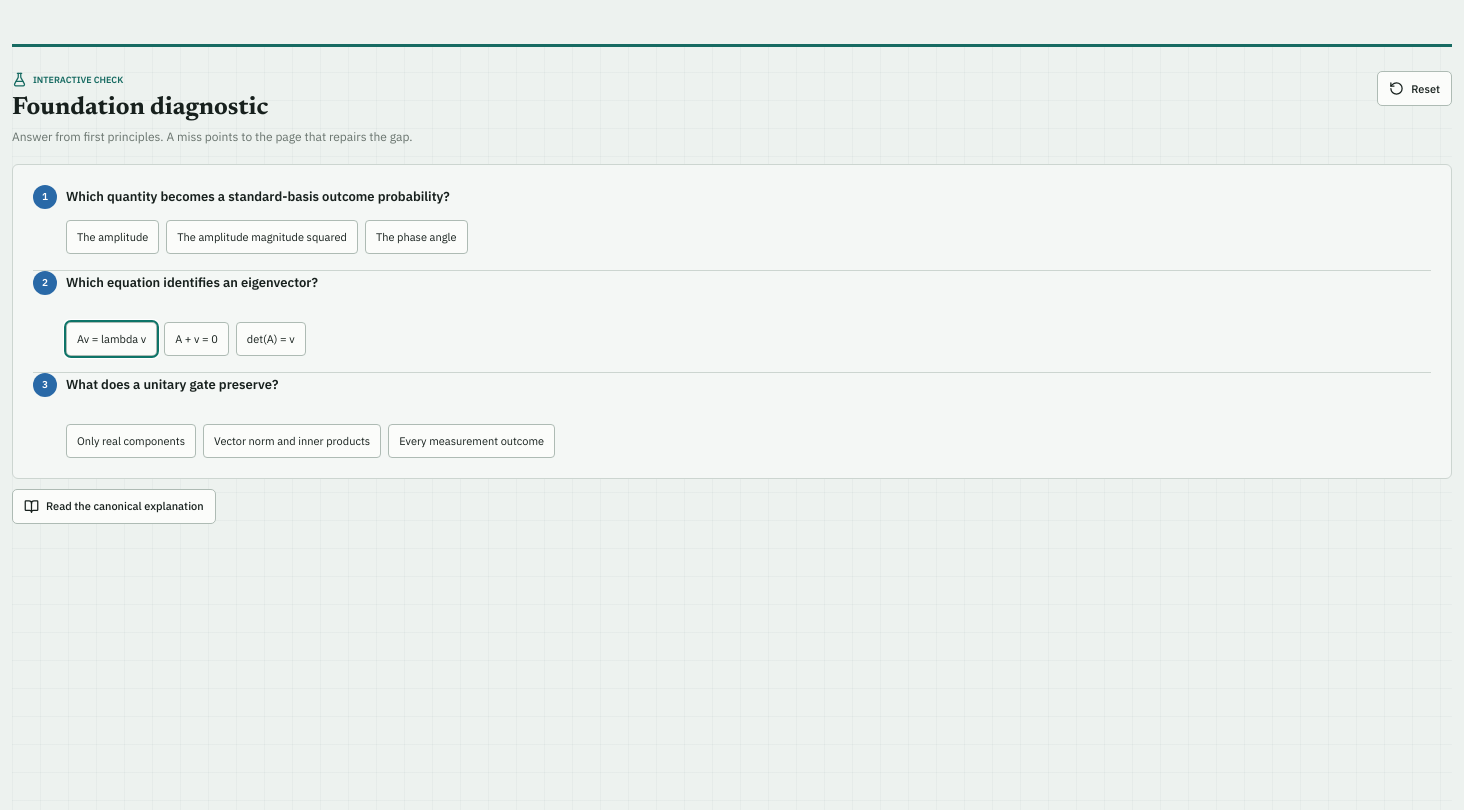
it: interactive foundation exercises › supports keyboard answers and reset
The width and height of the screenshot is (1464, 810).
Press Enter
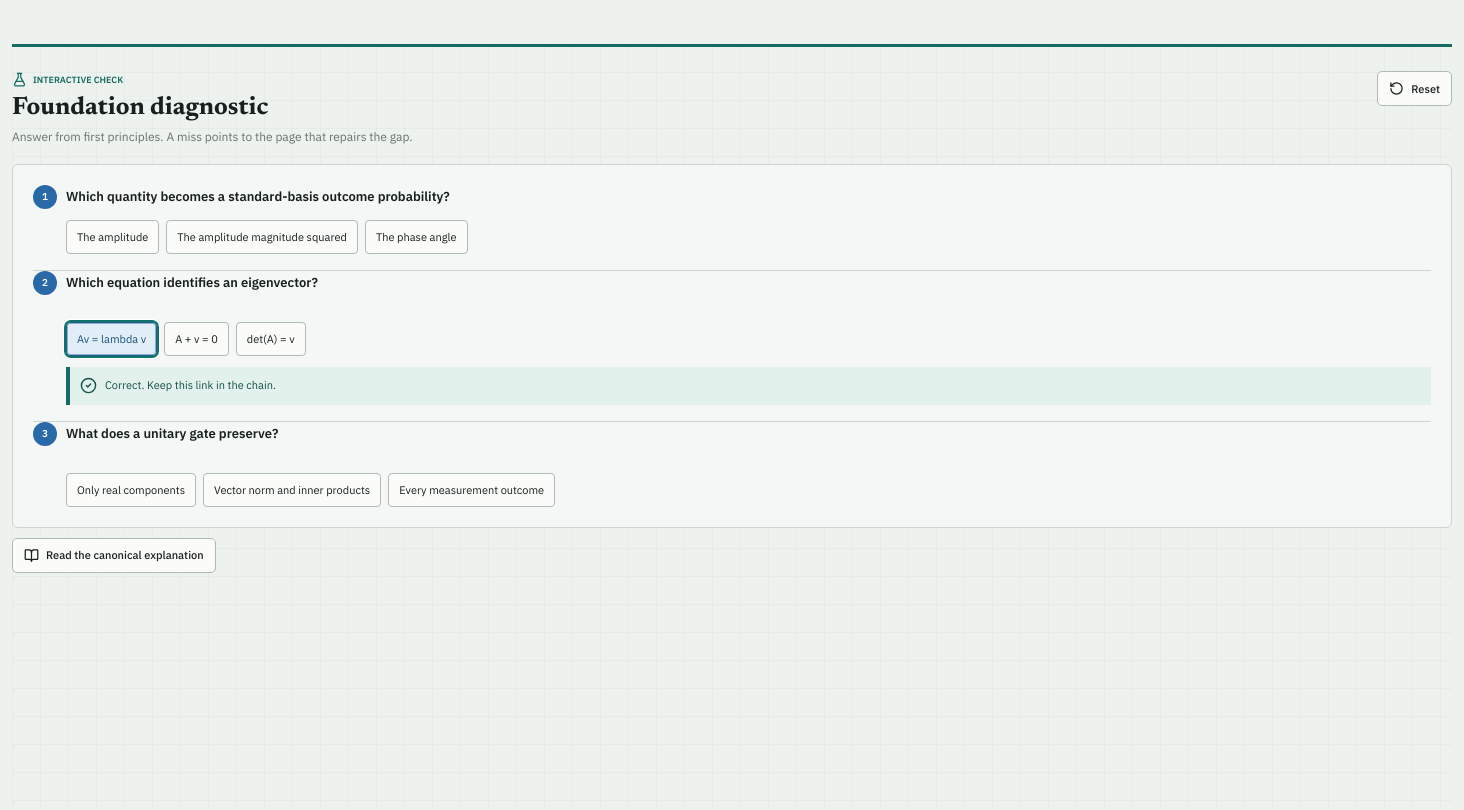
Result: the text "Correct. Keep this link in the chain." is shown at [105,378,276,393]
Click the button "Reset" at (1415, 88), box [1377,71,1452,106]
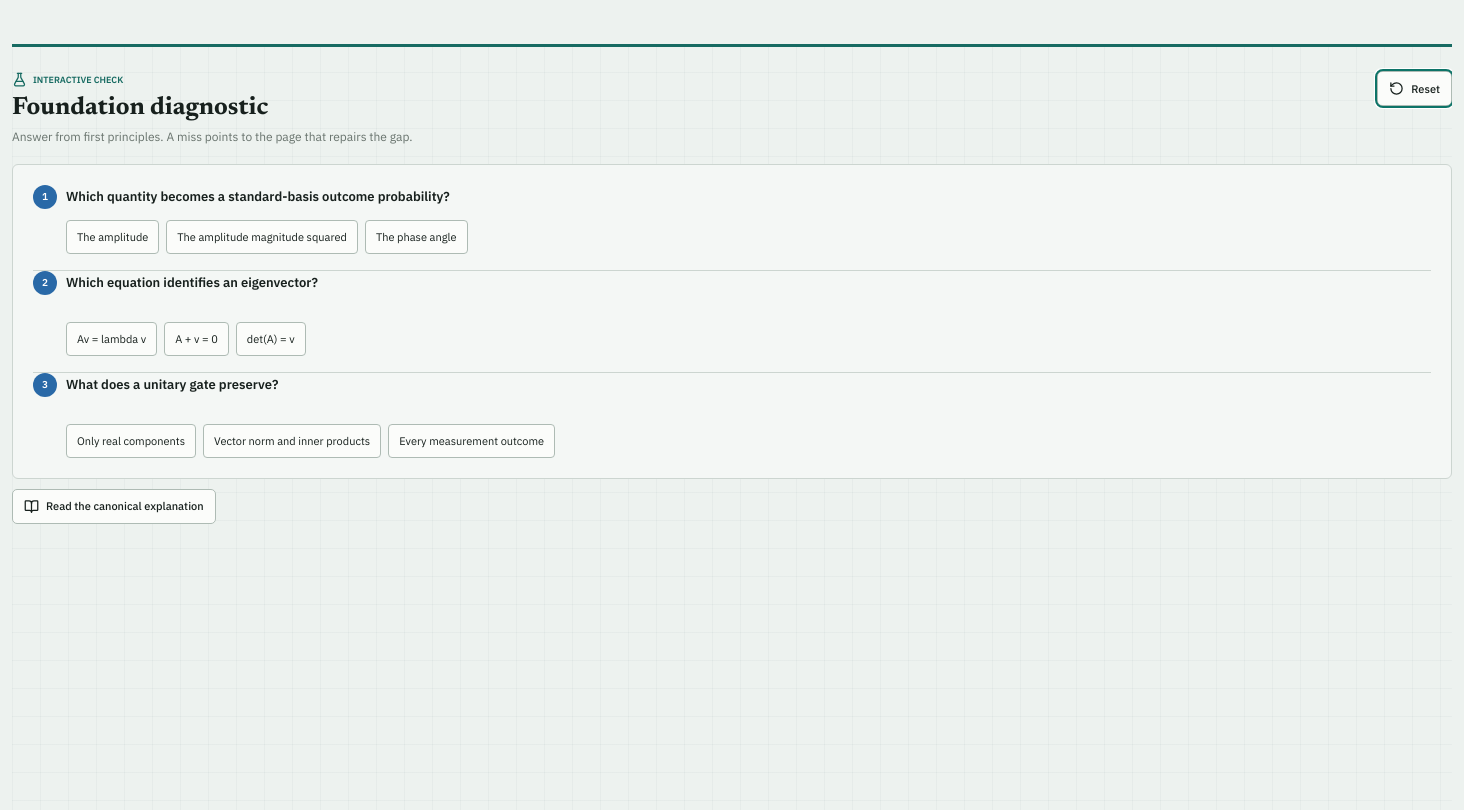
Result: the text "Correct" is gone
